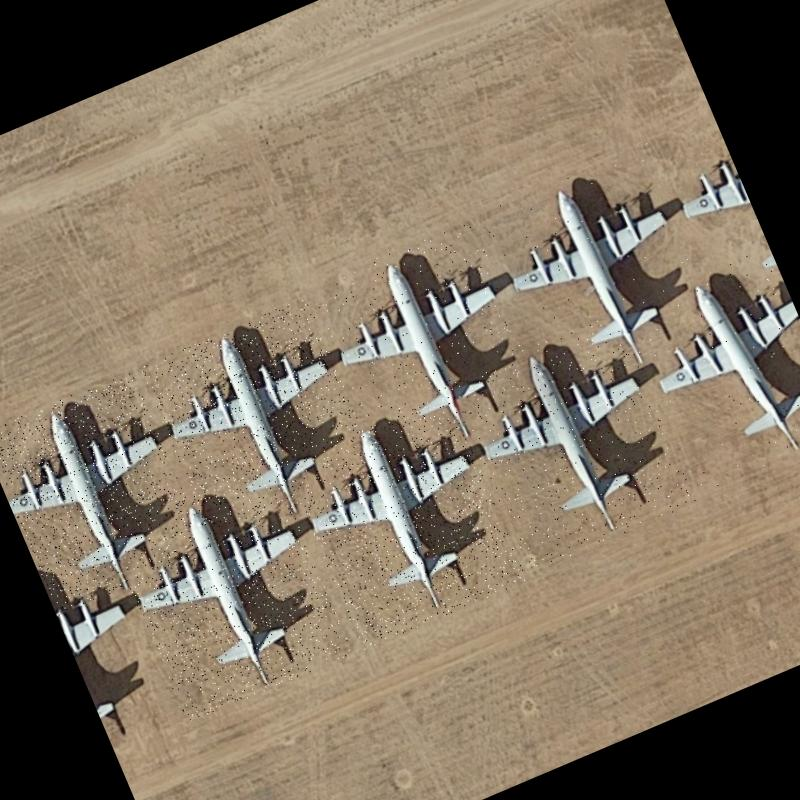A9: (448, 314, 696, 574), (108, 465, 354, 724), (480, 142, 726, 399), (284, 392, 528, 650), (310, 218, 552, 475), (140, 297, 380, 542), (0, 369, 209, 615), (623, 244, 800, 492)
